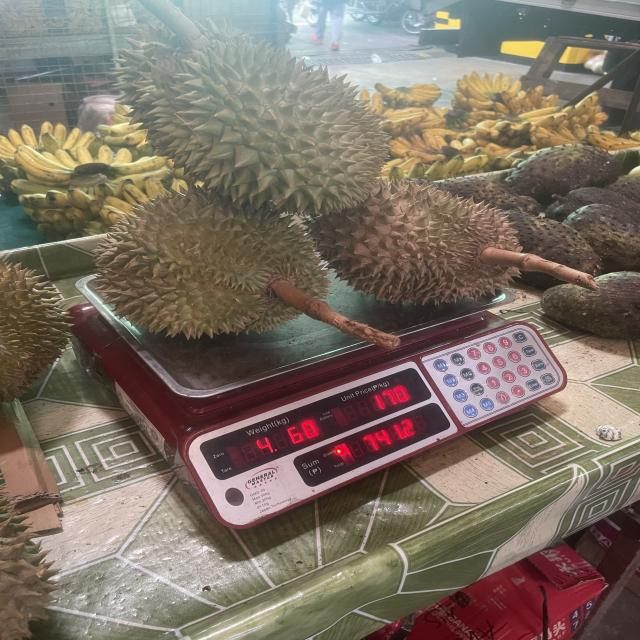mature: (113, 20, 409, 210), (77, 183, 338, 343), (316, 181, 516, 303)
